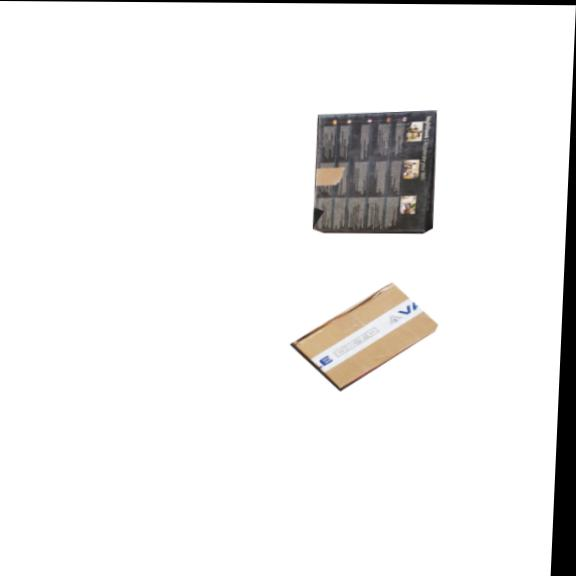Kertas: (312, 109, 440, 232), (291, 283, 437, 390), (313, 110, 436, 232)
